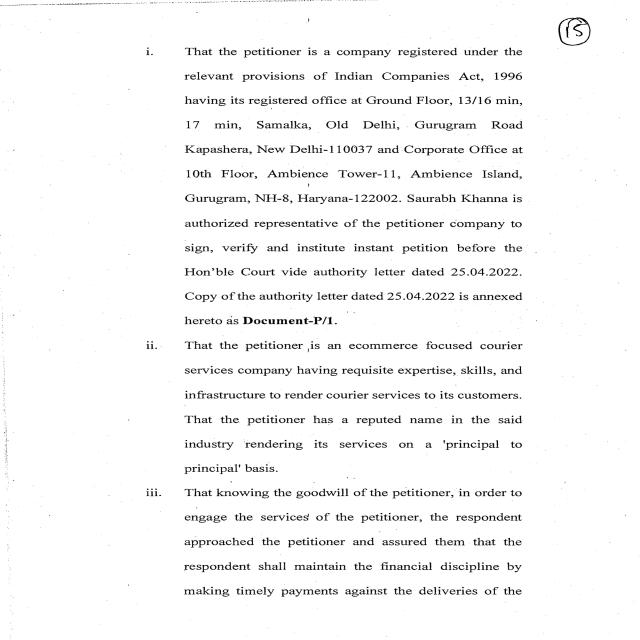page-number: (532, 0, 640, 73)
